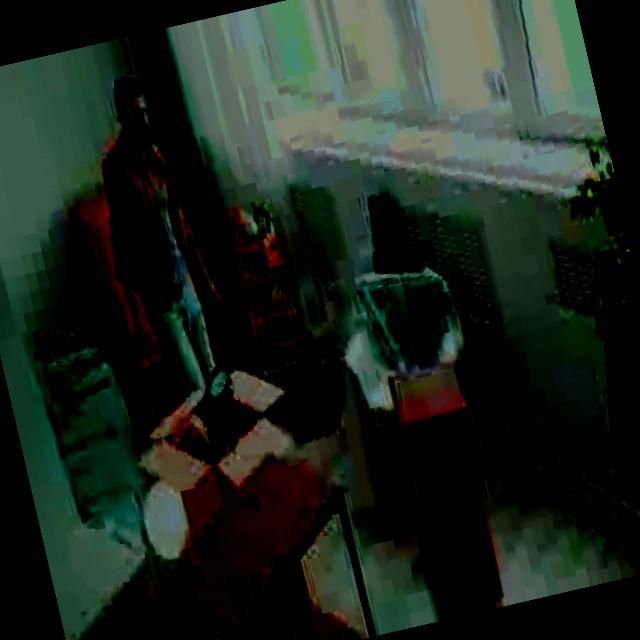Box: (382, 358, 479, 511), (416, 494, 506, 608)
